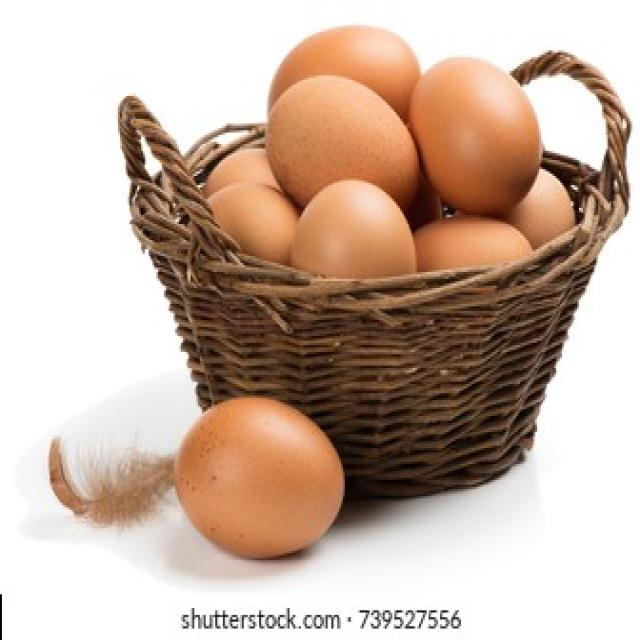Brown Egg: (175, 399, 345, 543), (418, 49, 538, 210), (273, 77, 421, 193), (294, 175, 415, 279), (413, 217, 525, 284)
